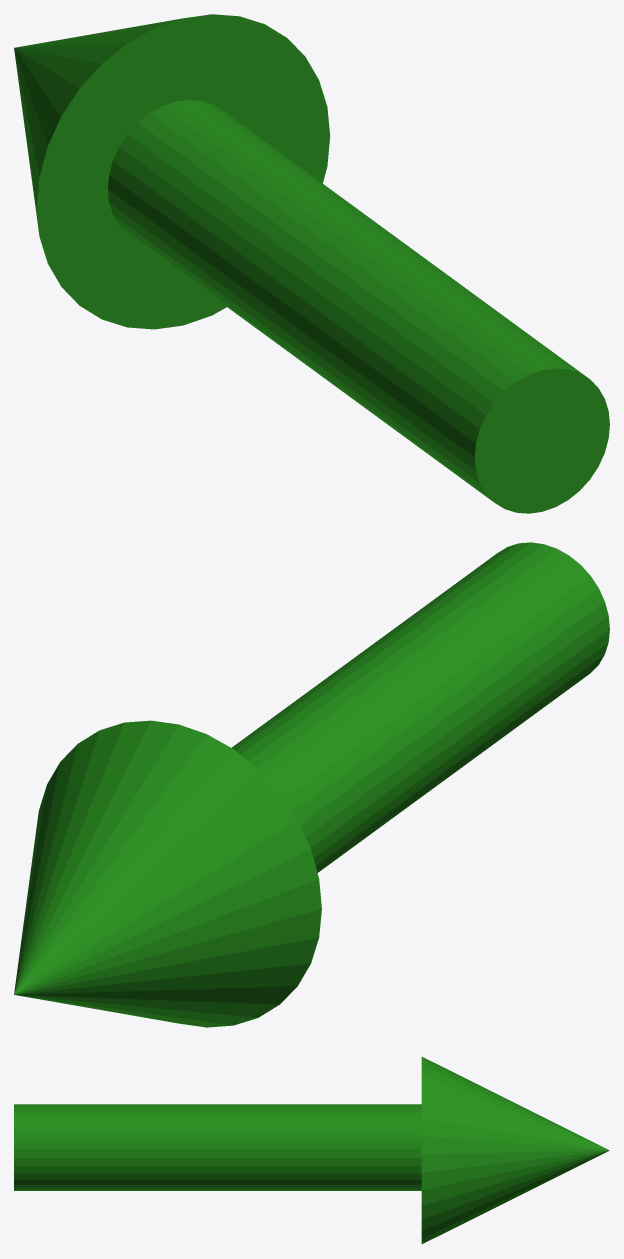
The model's file is GreenArrow.fbx.
3 renders of one model, top to bottom at view 1: azimuth 30°, elevation 25°; view 2: azimuth 150°, elevation 25°; view 3: azimuth 270°, elevation 25°, orthographic. The views are drawn at different scales.
Parts seen in each view (by area): view 1: Cylinder, Cone; view 2: Cone, Cylinder; view 3: Cylinder, Cone.
Part boxes in pixels (<box>): Cylinder: <box>108,100,609,513</box>; Cone: <box>14,14,330,329</box>; Cone: <box>14,720,321,1027</box>; Cylinder: <box>231,542,609,872</box>; Cylinder: <box>14,1104,421,1190</box>; Cone: <box>421,1057,609,1243</box>.
Size of the model in its own units: 109 by 109 by 347.
